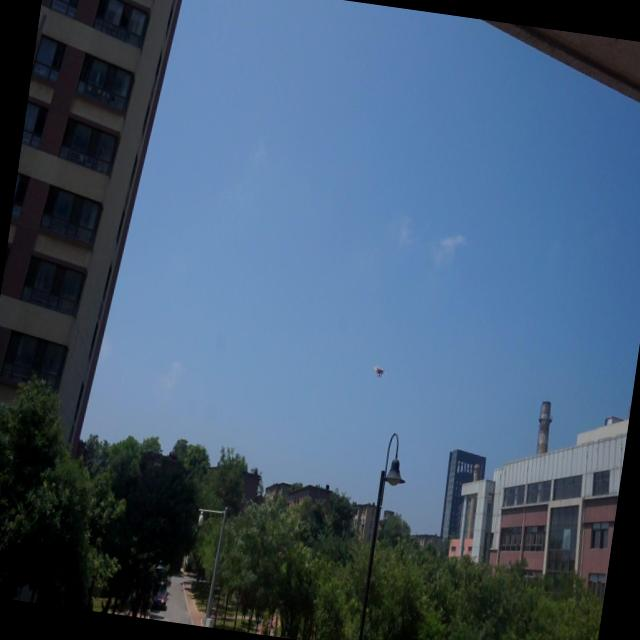drone: (372, 362, 388, 380)
